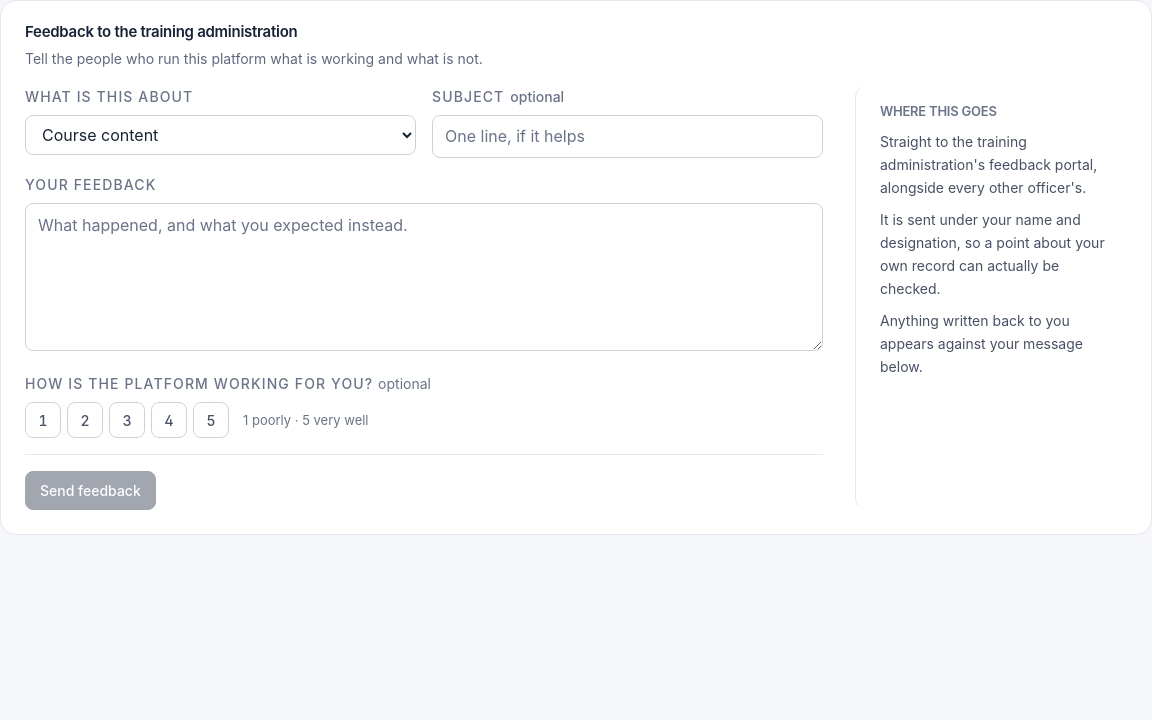
Test: FeedbackPanel › sends the category, message and rating, and shows what was sent
Select "Assessments and quizzes" in the dropdown labelled "What is this about" at [220, 135], box [25,115,416,155]
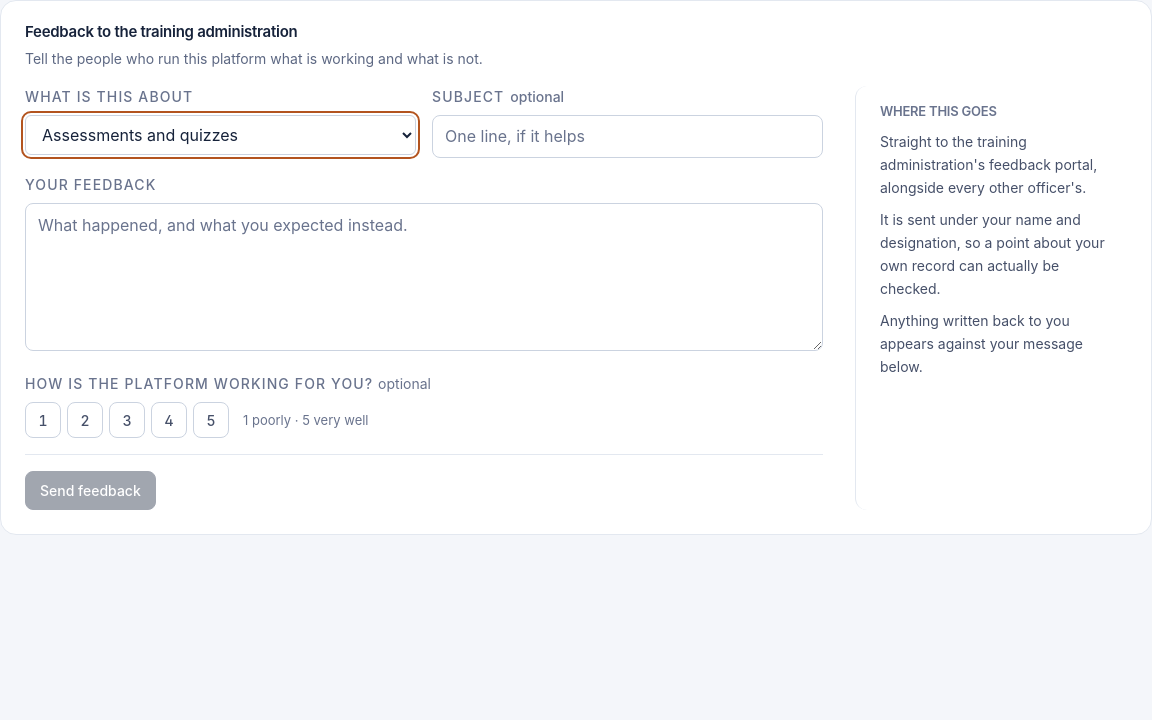
Type "The checkpoint quiz will not open for me." into the text box labelled "Your feedback".
click(424, 277); type("The checkpoint quiz will not open for me.")  # box [25,203,823,351]
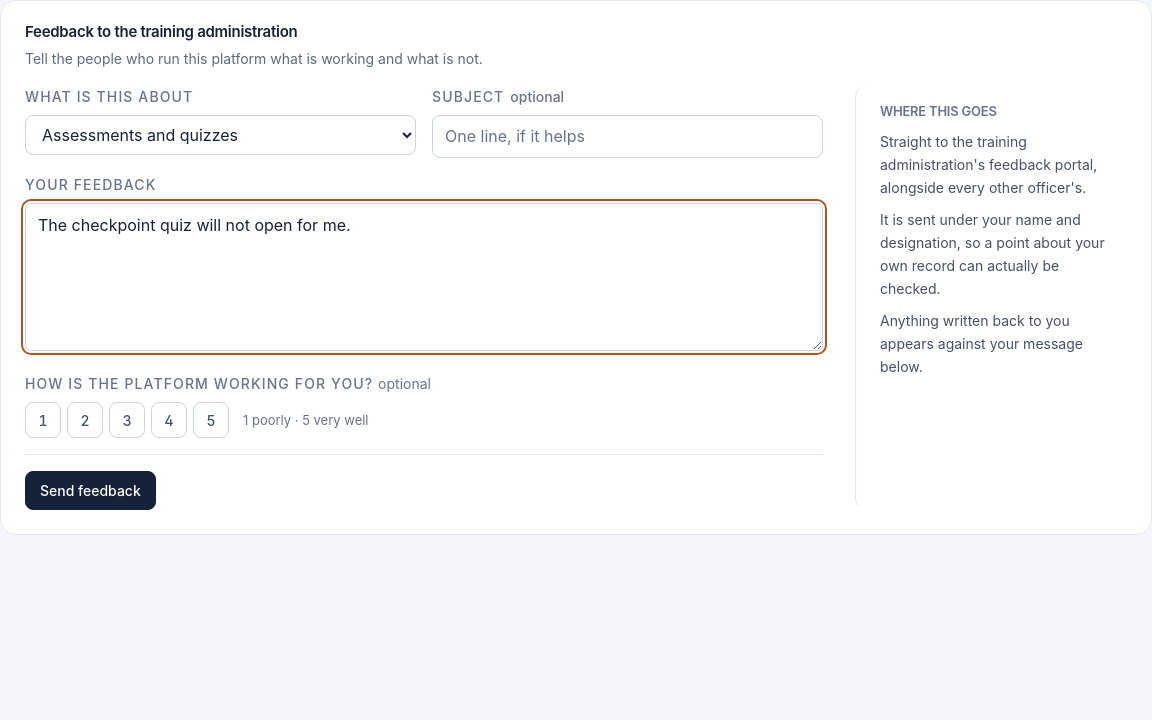
Click the button named "4 out of 5".
click(169, 420)  # box [151,402,187,438]
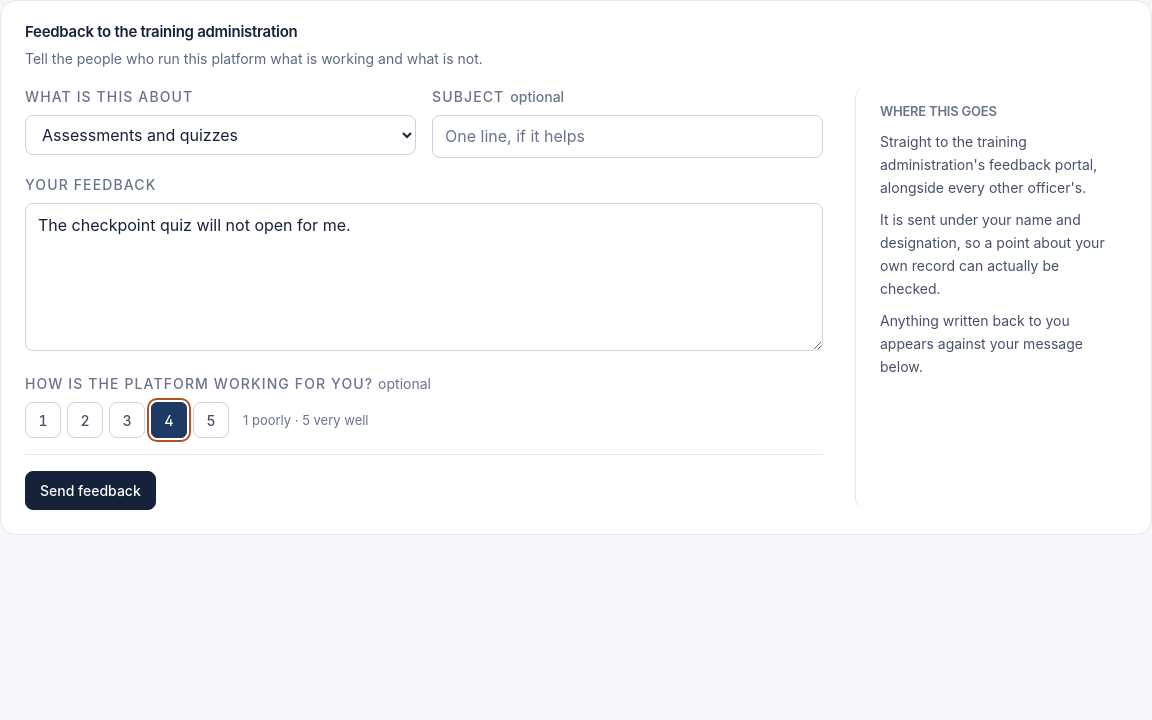
Click the button "Send feedback".
click(90, 490)  # box [25,471,156,510]
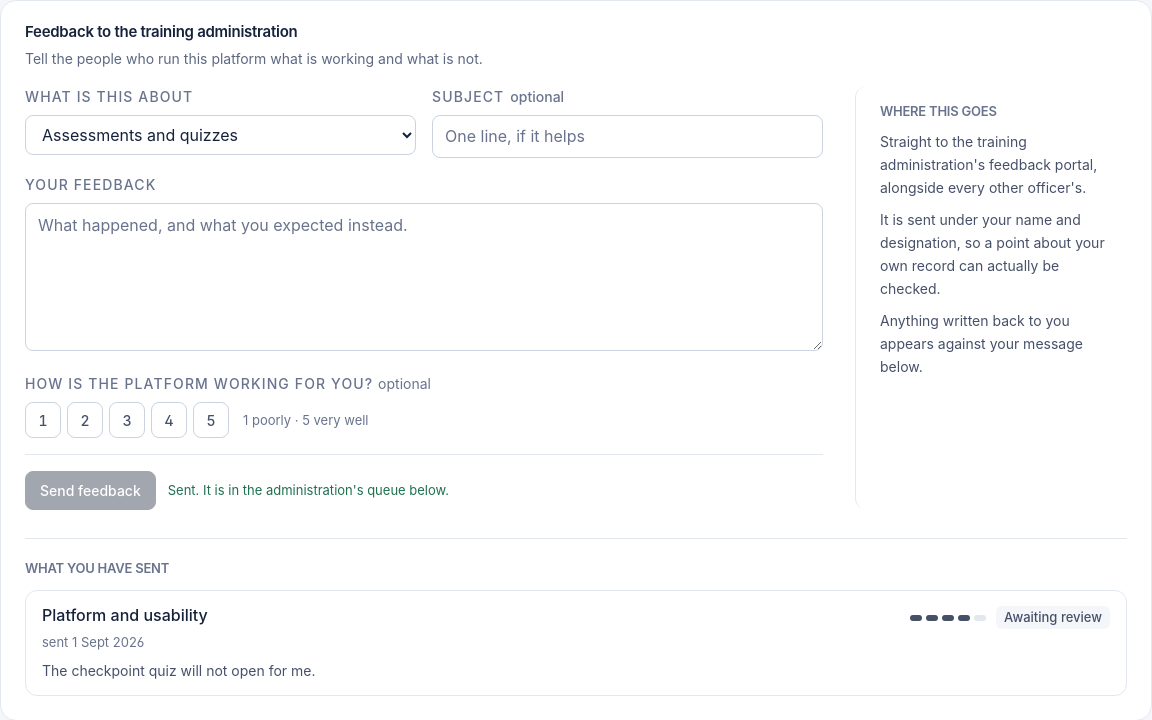
Expected: the text "The checkpoint quiz will not open for me." is shown, [42,662,316,679]
Expected: the text "Sent. It is in the administration's queue below." is shown, [168,481,449,500]
